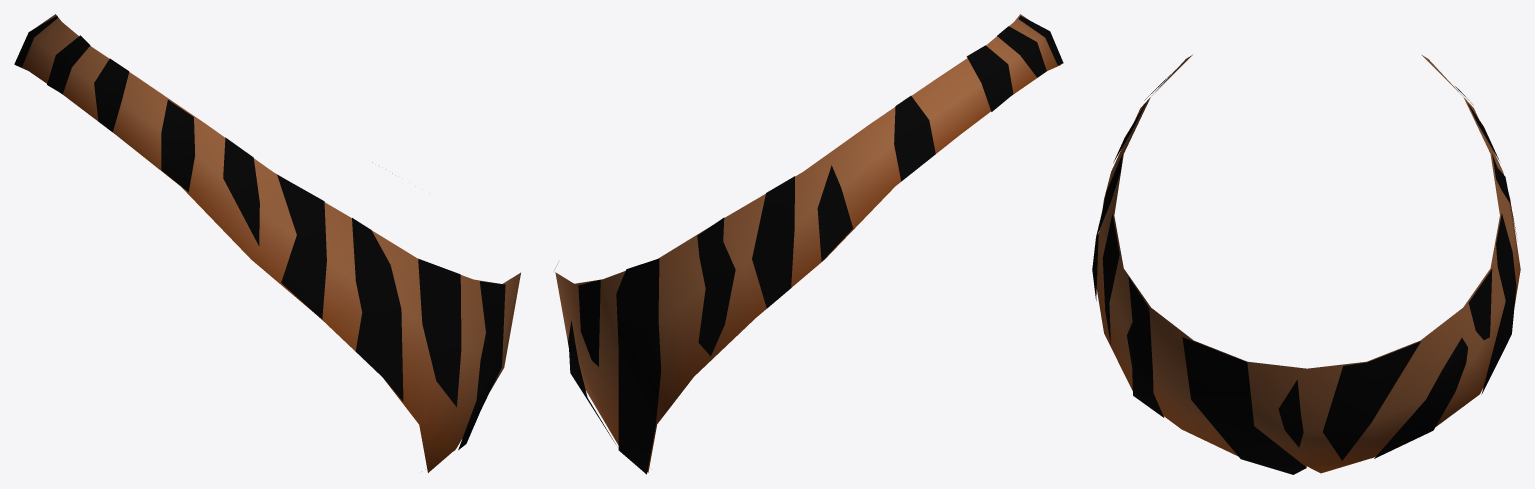
The model's file is hat_tigersash.glb.
The picture shows the model from 3 angles, left to right: view 1: azimuth 30°, elevation 25°; view 2: azimuth 150°, elevation 25°; view 3: azimuth 270°, elevation 25°; orthographic projection. The views are drawn at different scales.
Visible parts, largest first — view 1: hat_tigersash; view 2: hat_tigersash; view 3: hat_tigersash.
Boxes of the visible parts, x1=… form: hat_tigersash: x1=14, y1=14, x2=520, y2=472; hat_tigersash: x1=554, y1=14, x2=1063, y2=474; hat_tigersash: x1=1092, y1=54, x2=1520, y2=474.
Size of the model in its own units: 0.449 by 0.4883 by 0.5252.
